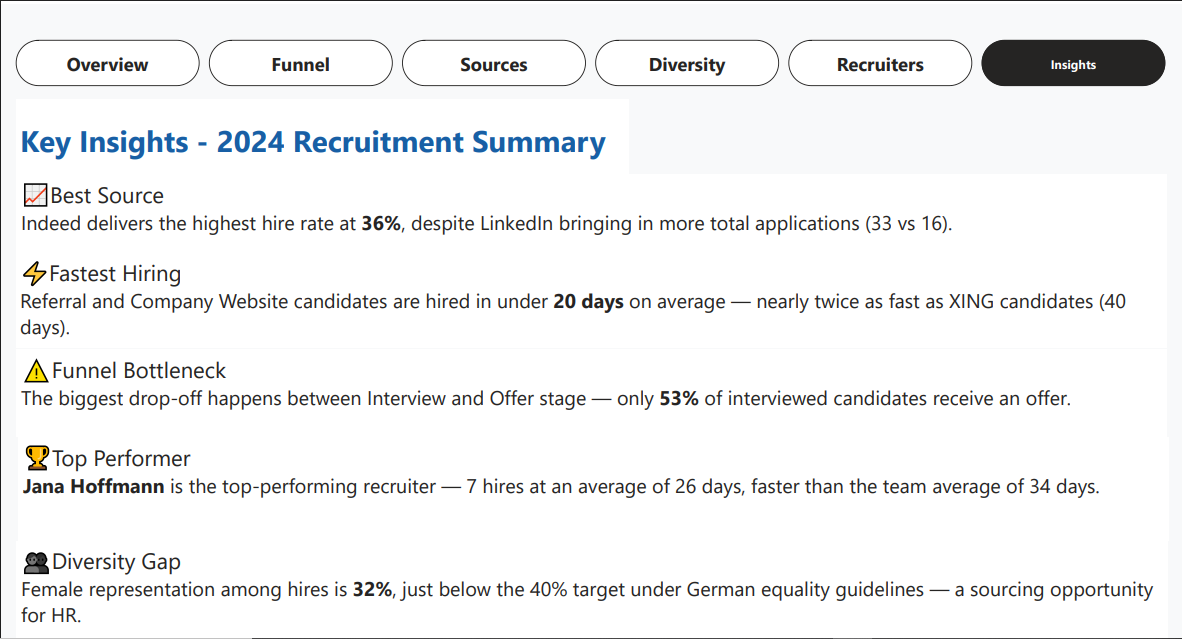

This screenshot's page, from the dashboard's own definition file:
{"tool":"powerbi","page":{"name":"Insights","canvas":[1280,720],"ordinal":5},"visuals":[{"type":"textbox","box":[16.7,101.7,663.3,81.7],"z":0},{"type":"textbox","box":[18.3,183.3,1245,85],"z":1000},{"type":"textbox","box":[16.7,268.3,1245,103.3],"z":2000},{"type":"textbox","box":[18.3,371.7,1245,95],"z":3000},{"type":"textbox","box":[20,466.7,1245,111.7],"z":4000},{"type":"textbox","box":[17.5,578.8,1246.2,112.5],"z":5000},{"type":"pageNavigator","box":[16.7,38.3,1245,50],"z":5001}]}

Visuals, with their boxes on the page's 1280x720 design canvas (x1, y1, x2, y2). These are canvas units, not pixel positions in the 1182x639 screenshot, which may show the page scaled, cropped or inside an application window:
textbox: select_region(17, 102, 680, 183)
textbox: select_region(18, 183, 1263, 268)
textbox: select_region(17, 268, 1262, 372)
textbox: select_region(18, 372, 1263, 467)
textbox: select_region(20, 467, 1265, 578)
textbox: select_region(18, 579, 1264, 691)
pageNavigator: select_region(17, 38, 1262, 88)
